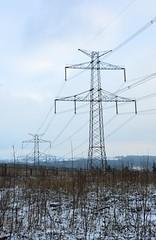power_tower: (56, 42, 139, 177), (21, 125, 55, 172)
